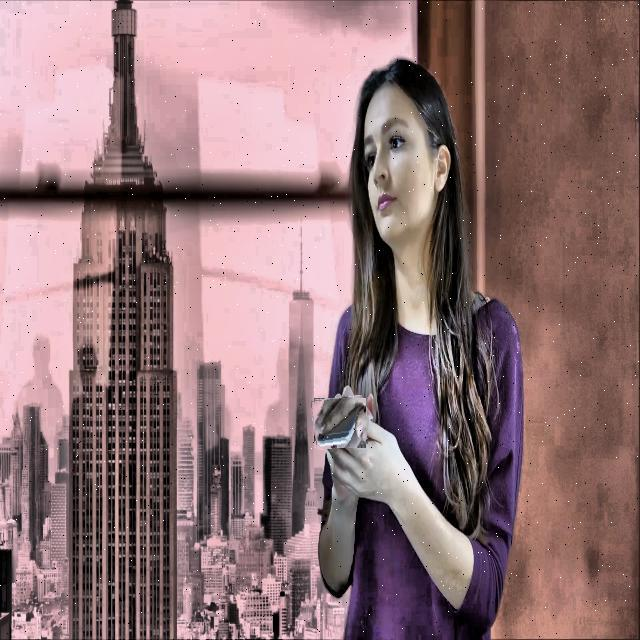Phone: (313, 396, 367, 449)
